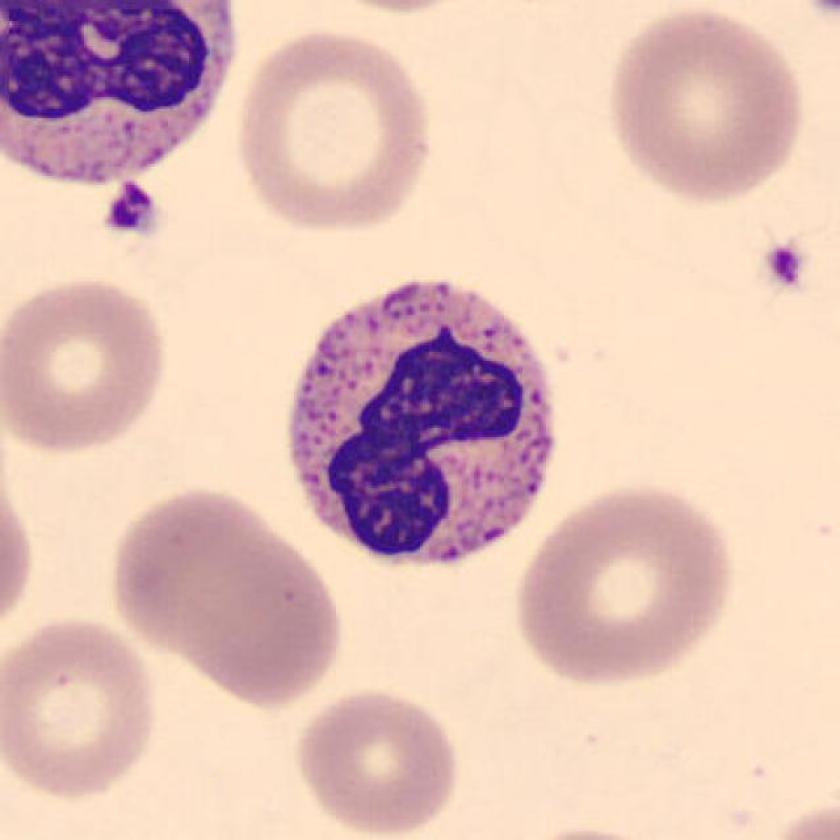neutrophil: (294, 285, 555, 562), (1, 1, 235, 181)
